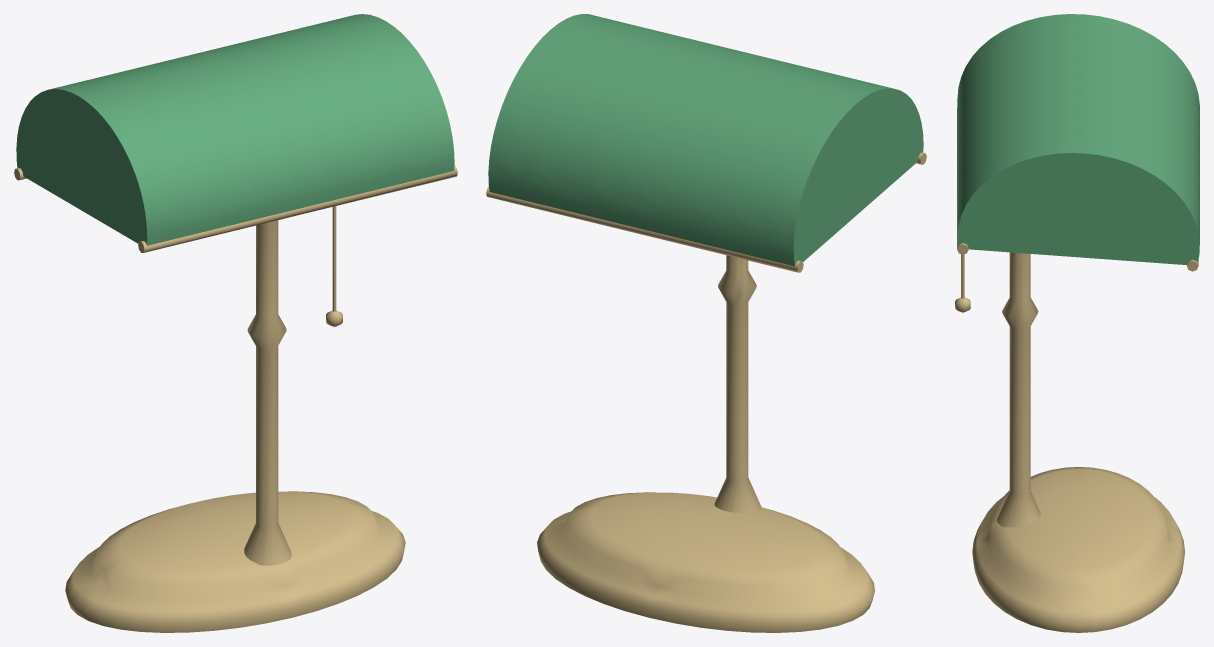
Rendered from lp_bankers_lamp.glb.
3 views of the same model, side by side, from view 1: azimuth 30°, elevation 25°; view 2: azimuth 150°, elevation 25°; view 3: azimuth 270°, elevation 25° (orthographic). The views are drawn at different scales.
Visible parts, largest first — view 1: lp_bankers_lamp; view 2: lp_bankers_lamp; view 3: lp_bankers_lamp.
Part boxes in pixels (x1=…): lp_bankers_lamp: x1=14, y1=14, x2=457, y2=632; lp_bankers_lamp: x1=486, y1=14, x2=926, y2=632; lp_bankers_lamp: x1=955, y1=14, x2=1199, y2=632.
Size of the model in its own units: 0.264 by 0.4058 by 0.1883.
